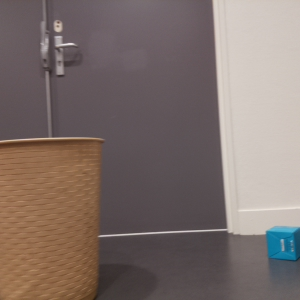medium: (1, 136, 105, 300)
small: (266, 225, 300, 260)
